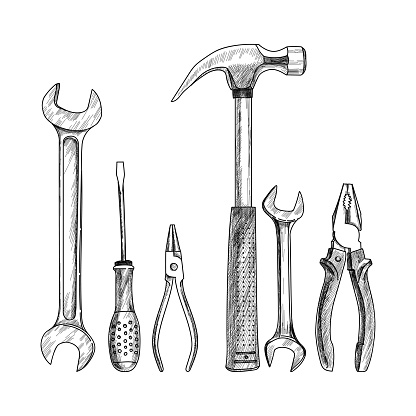Job: (38, 70, 106, 375), (258, 177, 314, 374)
